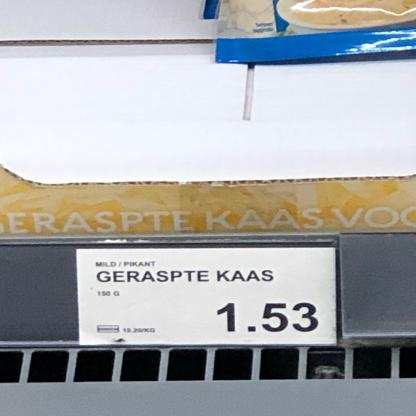prtg: (77, 249, 337, 347)
